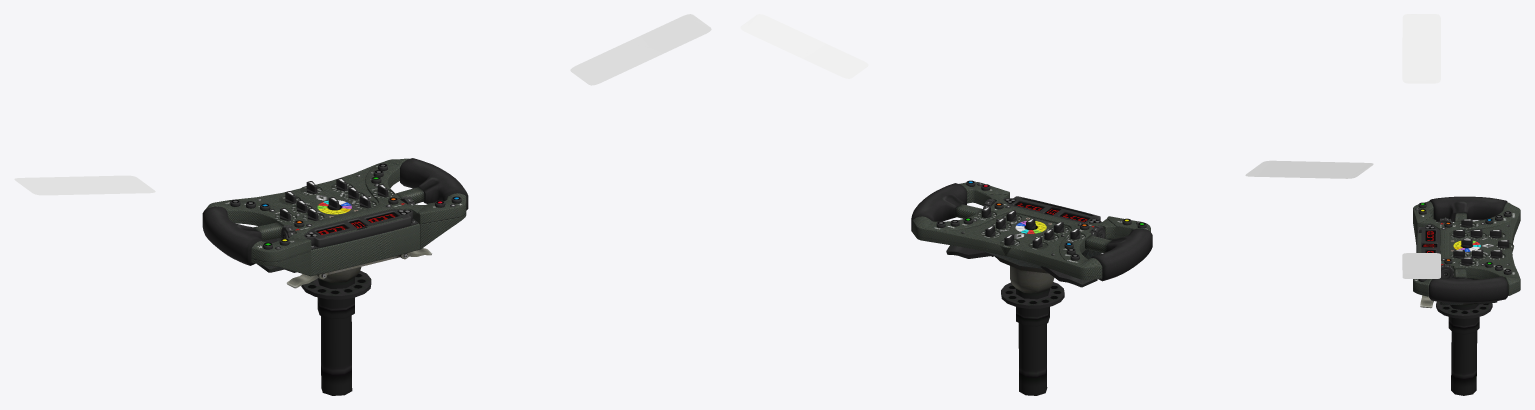
File: Wheel.obj
3 renders of one model, left to right at view 1: azimuth 30°, elevation 25°; view 2: azimuth 150°, elevation 25°; view 3: azimuth 270°, elevation 25°, orthographic. The views are drawn at different scales.
Visible parts, largest first — view 1: object__11, object__1, object__0, object__9; view 2: object__11, object__1, object__0, object__9; view 3: object__11, object__0, object__1, object__9, object__4.
Boxes of the visible parts, x1,y1,x2,y2 form: object__11: (202,158,468,395); object__1: (570,14,711,85); object__0: (14,175,155,195); object__9: (304,209,418,249); object__11: (911,180,1152,395); object__1: (740,14,868,78); object__0: (1245,160,1373,178); object__9: (1003,196,1101,223); object__11: (1413,196,1520,395); object__0: (1402,14,1440,83); object__1: (1402,253,1440,278); object__9: (1417,224,1439,253); object__4: (1425,230,1435,241).
Size of what is drawn, in the model's own units: 0.8276 by 0.3551 by 0.1559.
Materials: 6 (5 with a texture image).
